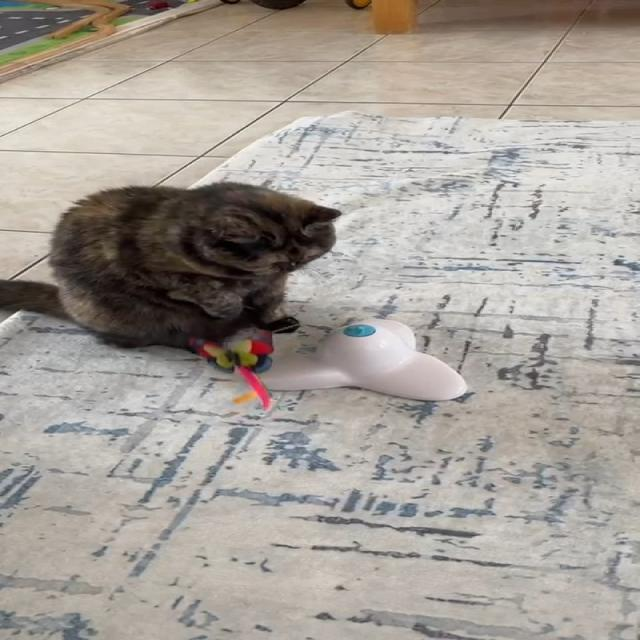authorized: (0, 180, 343, 351)
